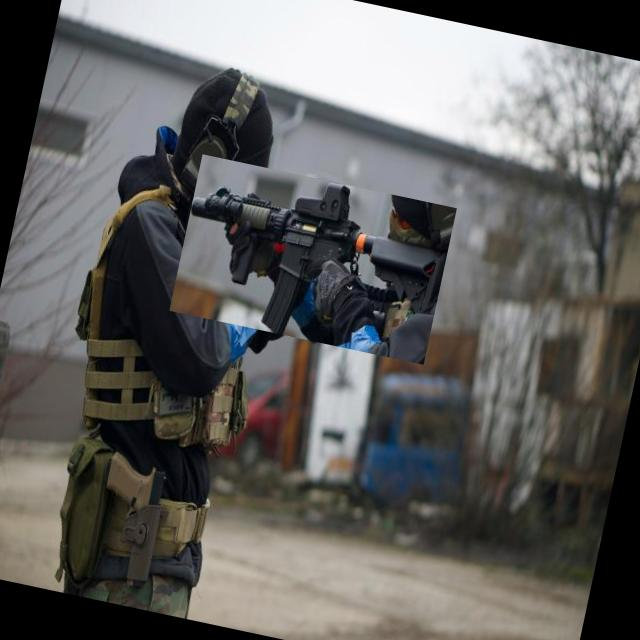Gun: (190, 183, 446, 333)
